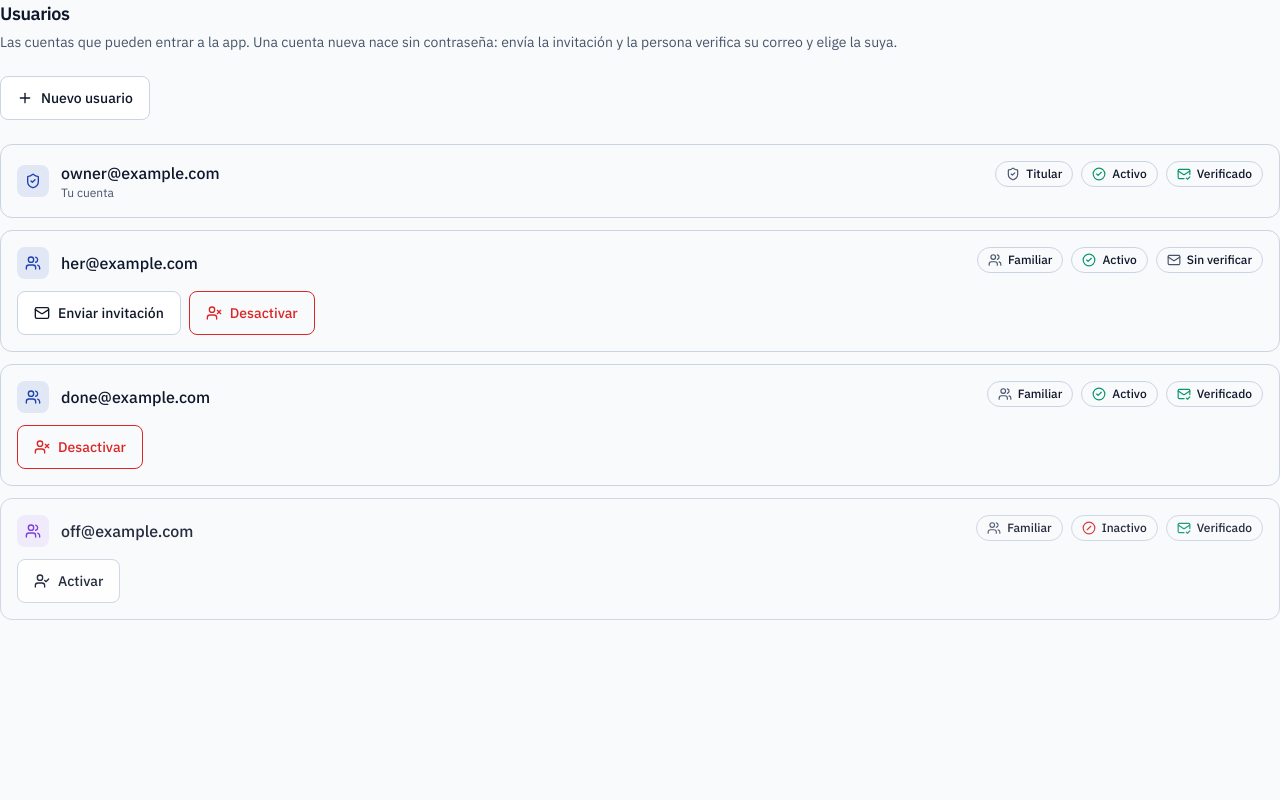
UsersSection › keeps the dialog open and explains a failed action
Click the button "Enviar invitación" at (99, 313), box [17,291,181,335]
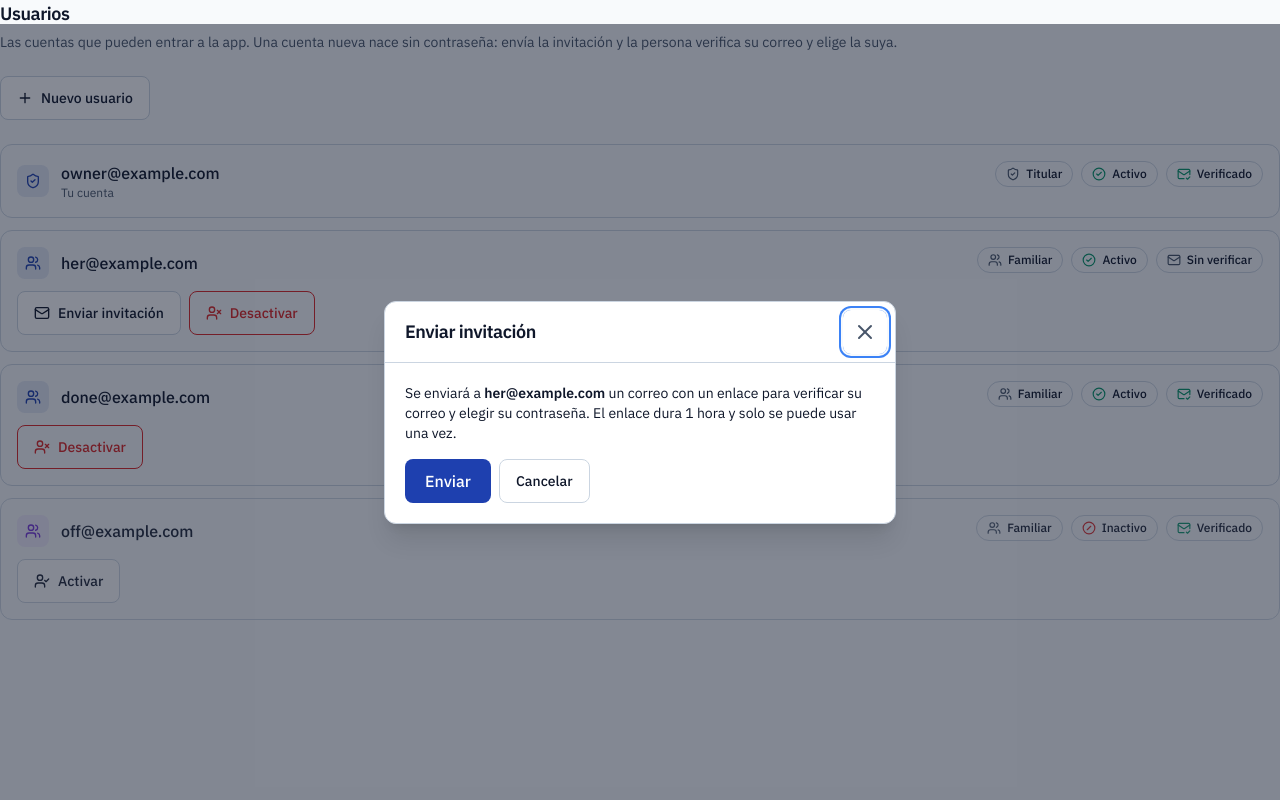
Click the button "Enviar" at (448, 480), box [405,458,491,502]
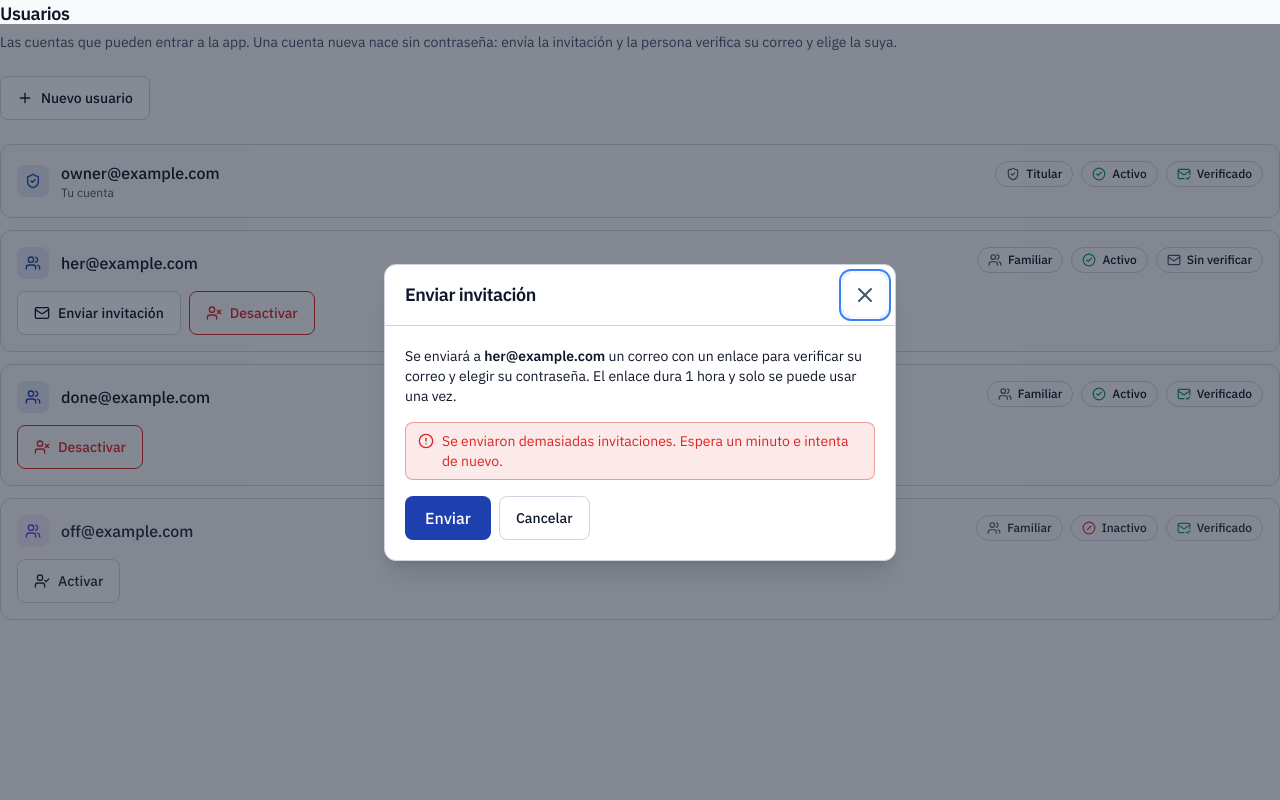
Expected: the dialog is shown
Expected: the message shows "demasiadas invitaciones", [442,432,848,470]
